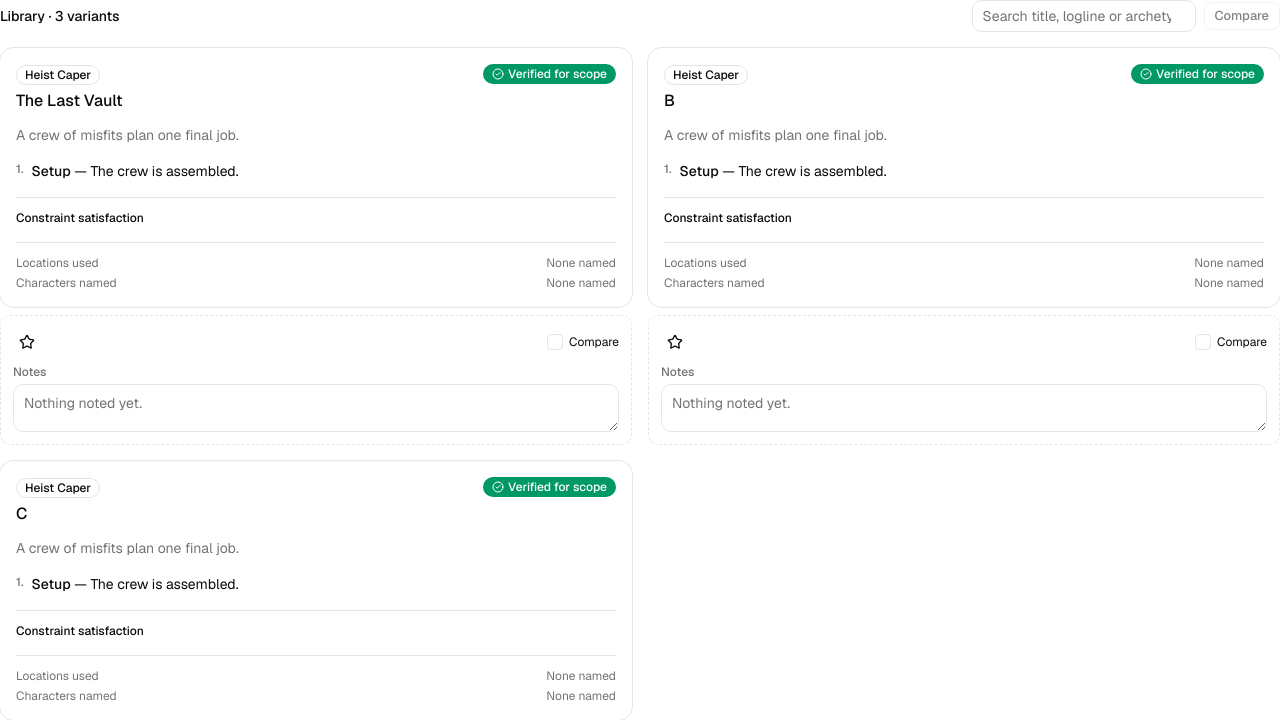
it: VariantGallery › only allows comparing between two and five variants
Expected: the button "Compare" is disabled, top-left (1204, 2), bottom-right (1279, 30)
Click the 1st checkbox named "Compare": (555,342) top-left (547, 334), bottom-right (563, 350)
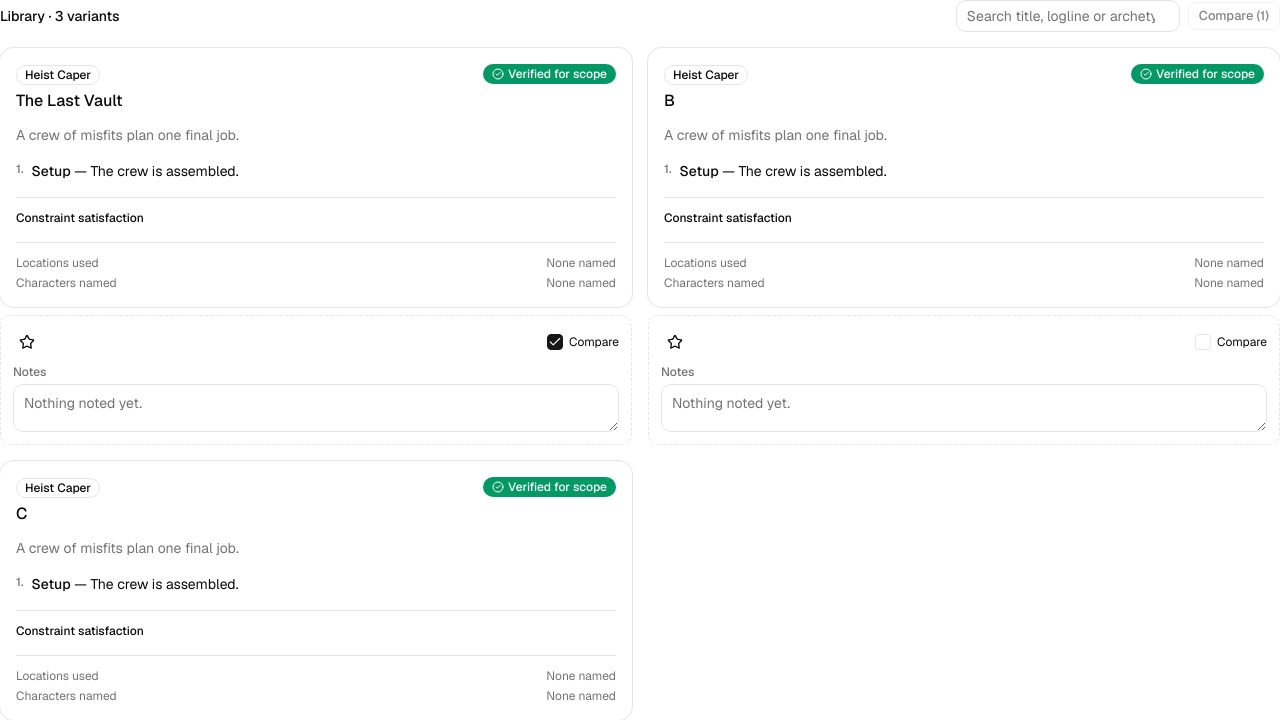
Expected: the button "Compare (1)" is disabled, top-left (1188, 2), bottom-right (1279, 30)
Click the 2nd checkbox named "Compare": (1203,342) top-left (1195, 334), bottom-right (1211, 350)
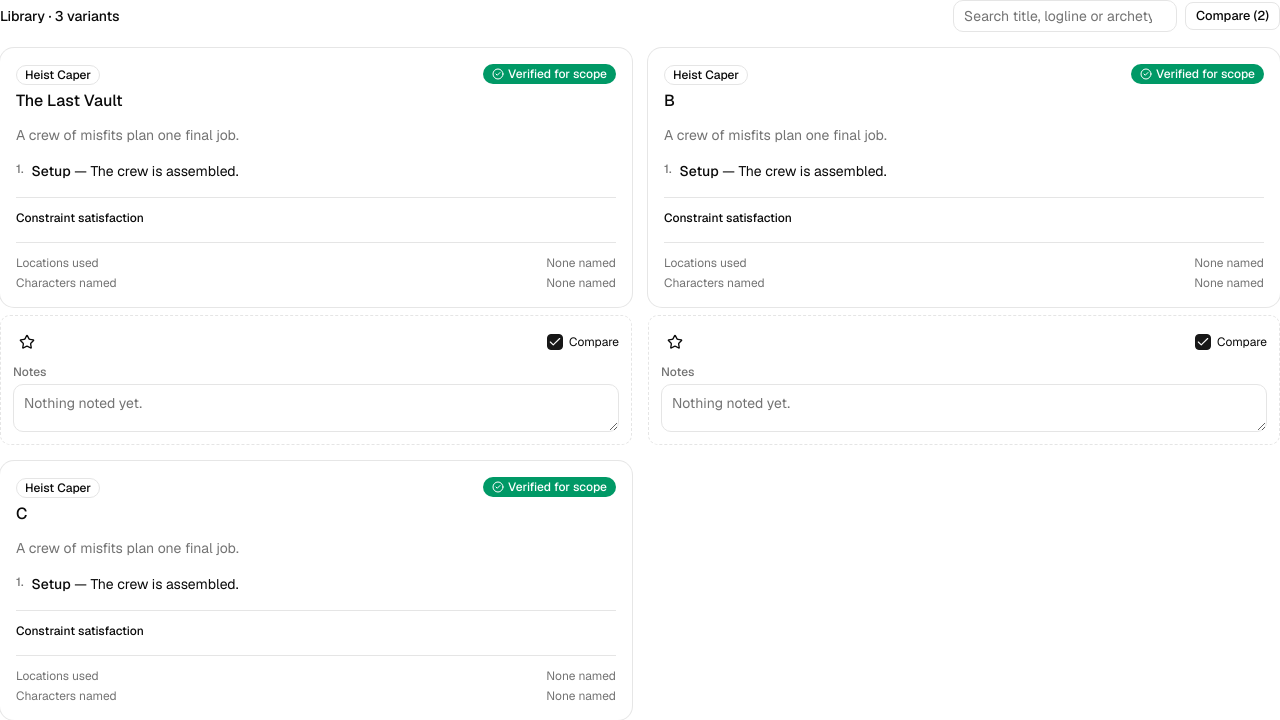
Expected: the button "Compare (2)" is enabled
Click the button "Compare (2)": (1233,16) top-left (1185, 2), bottom-right (1279, 30)
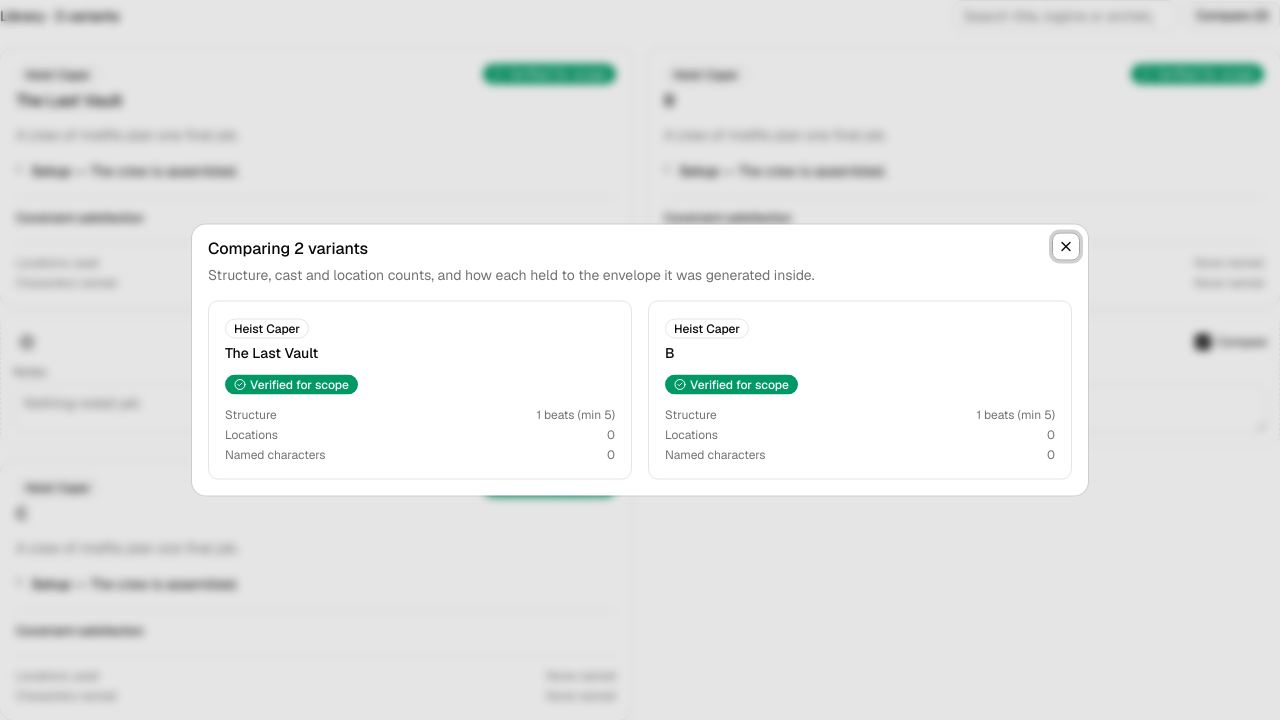
Expected: the heading "Comparing 2 variants" is shown, top-left (208, 238), bottom-right (368, 258)
